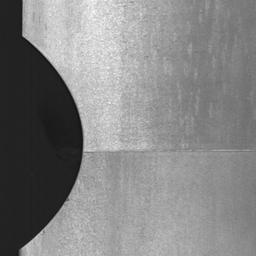Crescent gap: (21, 37, 83, 248)
